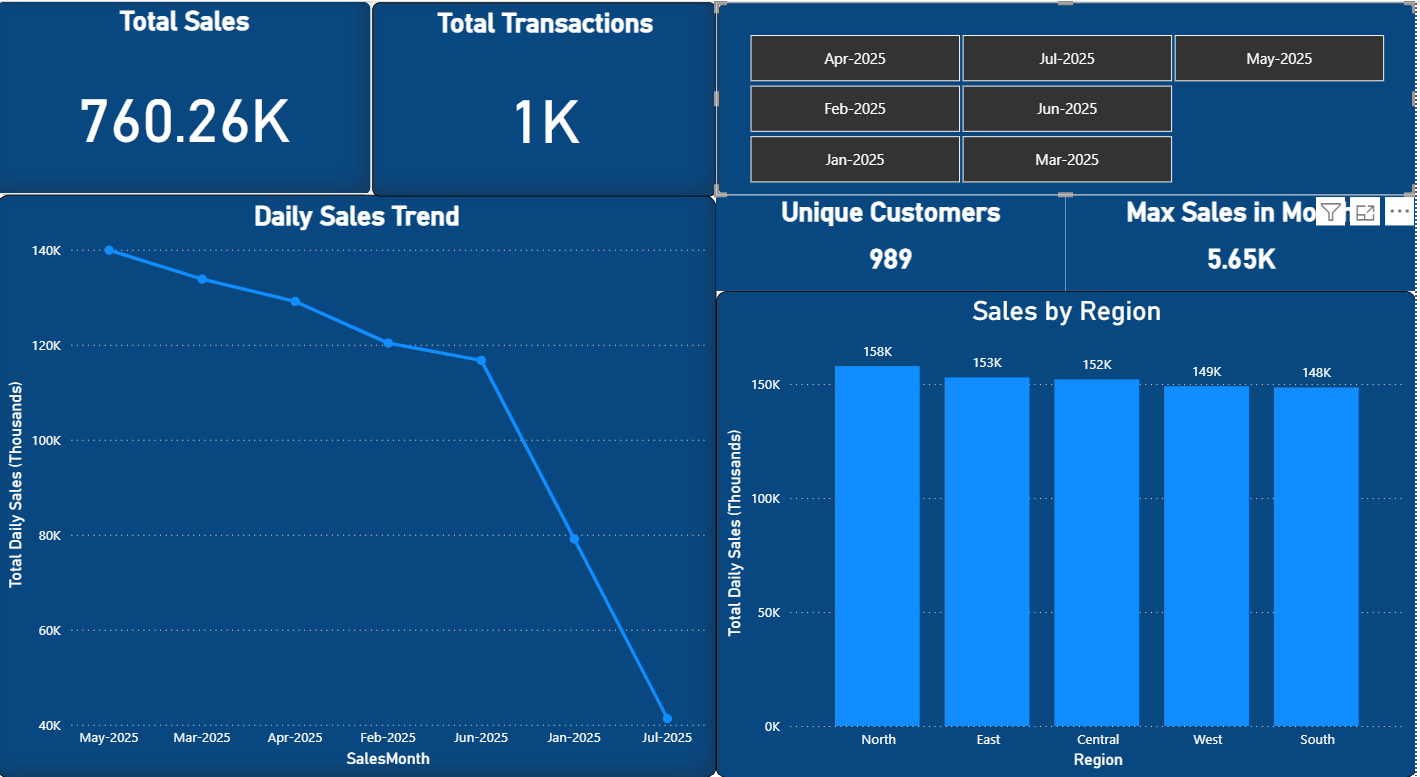

Layout of this report page (visuals, bound fields, positions):
{"tool":"powerbi","page":{"name":"Total Sales Card","canvas":[1280,720],"ordinal":0},"visuals":[{"type":"card","title":"Total Sales","fields":{"Values":["Sum(gold_daily_sales_summary.TotalDailySales)"]},"box":[8,0,330.7,174.3],"z":0},{"type":"lineChart","title":"Daily Sales Trend","fields":{"Category":["gold_daily_sales_summary.SalesMonth"],"Y":["Sum(gold_daily_sales_summary.TotalDailySales)"]},"box":[0,174.9,649.3,527],"z":1000},{"type":"clusteredColumnChart","title":"Sales by Region","fields":{"Category":["gold_daily_sales_summary.Region"],"Y":["Sum(gold_daily_sales_summary.TotalDailySales)"]},"box":[649.3,261.7,631,440.2],"z":2000},{"type":"card","title":"Total Transactions","fields":{"Values":["Sum(gold_daily_sales_summary.TotalTransactions)"]},"box":[338.9,0,326.6,174.3],"z":3000},{"type":"slicer","fields":{"Values":["gold_daily_sales_summary.SalesMonth"]},"box":[649.3,1.2,631,260.5],"z":4000},{"type":"actionButton","box":[0,0,100,40],"z":4001}]}

Visuals, with their boxes in screenshot pixels (x1, y1, x2, y2), scaled from the page's 1280x720 canvas onto the 1420x777 screenshot:
"Total Sales" card: 9:0:376:188
"Daily Sales Trend" lineChart: 0:189:720:757
"Sales by Region" clusteredColumnChart: 720:282:1419:757
"Total Transactions" card: 376:0:738:188
slicer - gold_daily_sales_summary.SalesMonth: 720:1:1419:282
actionButton: 0:0:111:43
